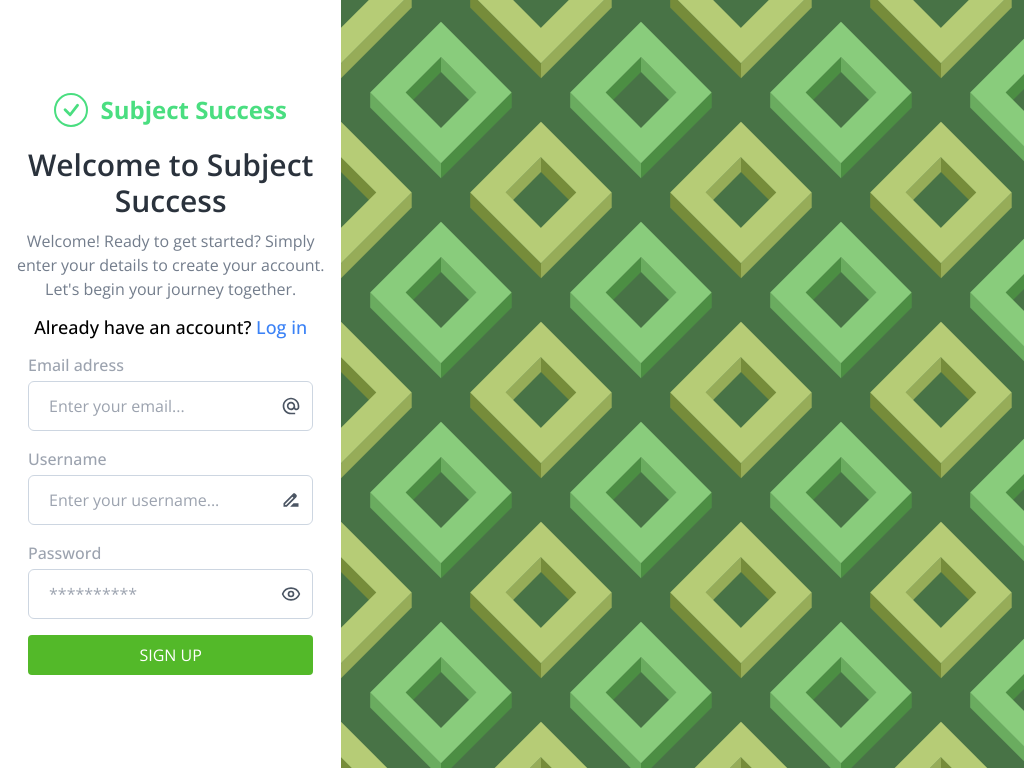
it: Sign Up Test › with invalid password › should render password do not match criteria
This screenshot has width=1024, height=768.
In the password field labelled "Password": [171, 594] box [28,569,313,619], type "test12345"
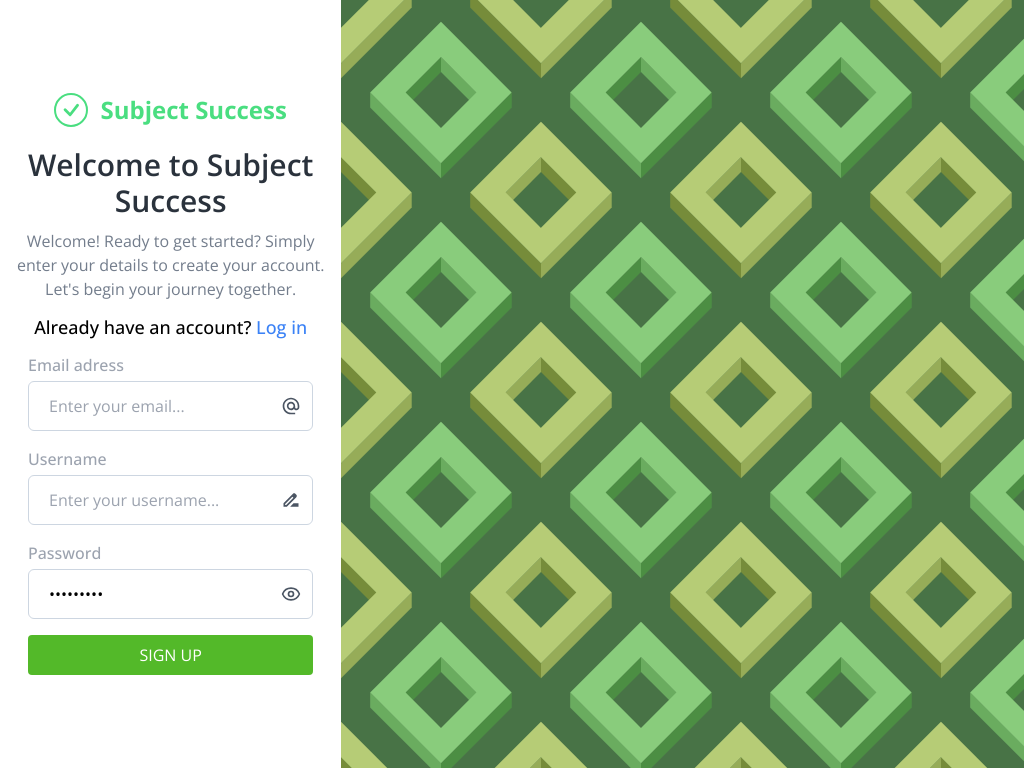
Click the field labelled "Email adress": [171, 406] box [28,381,313,431]
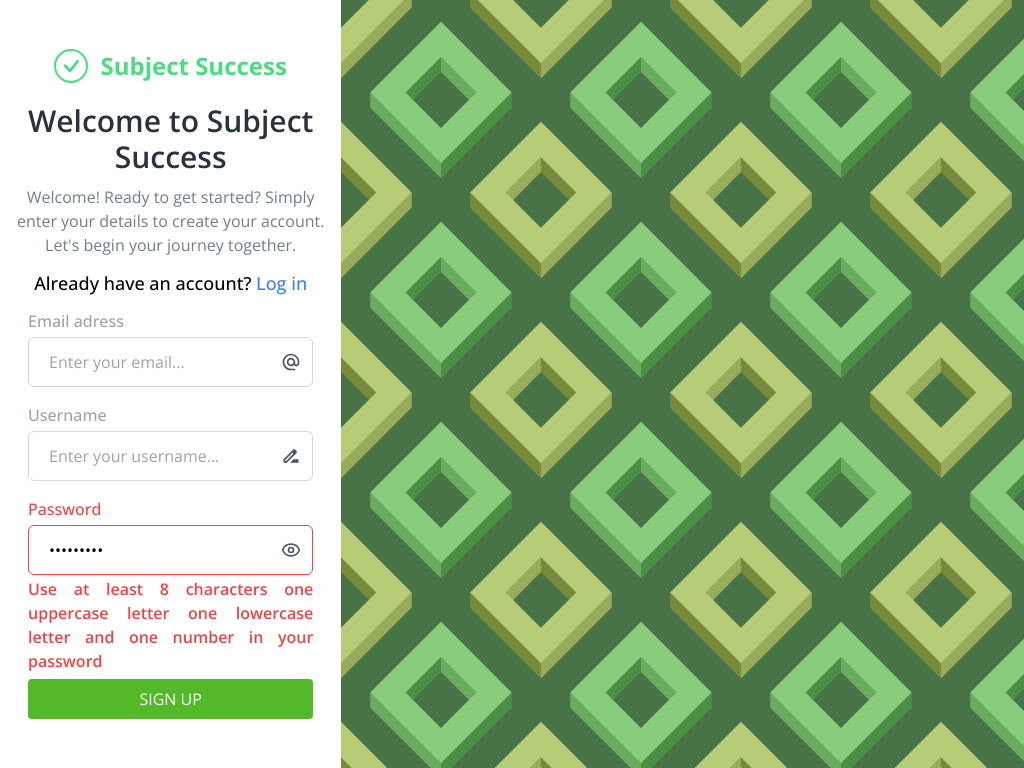
Now the text "use at least 8 characters one uppercase letter one lowercase letter and one number in your password" is shown, box [28,578,313,672]
